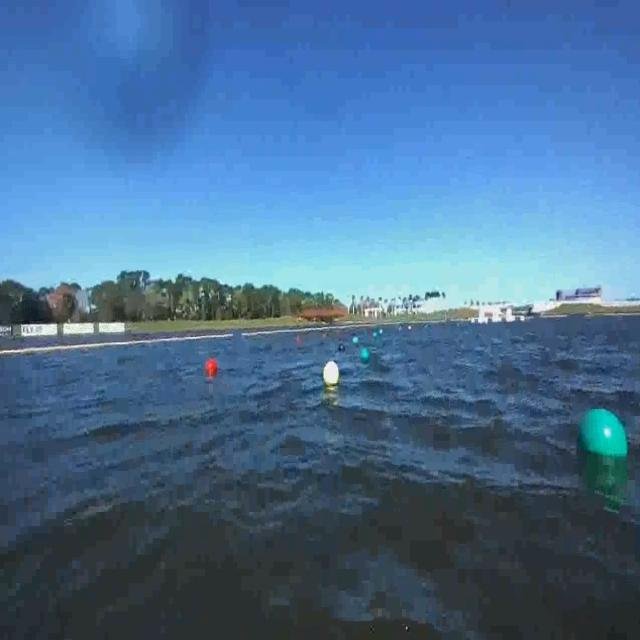black-buoy: (340, 344, 346, 353)
green-buoy: (575, 406, 630, 468), (361, 348, 369, 362)
red-buoy: (206, 358, 219, 378)
yellow-buoy: (325, 359, 342, 386)
